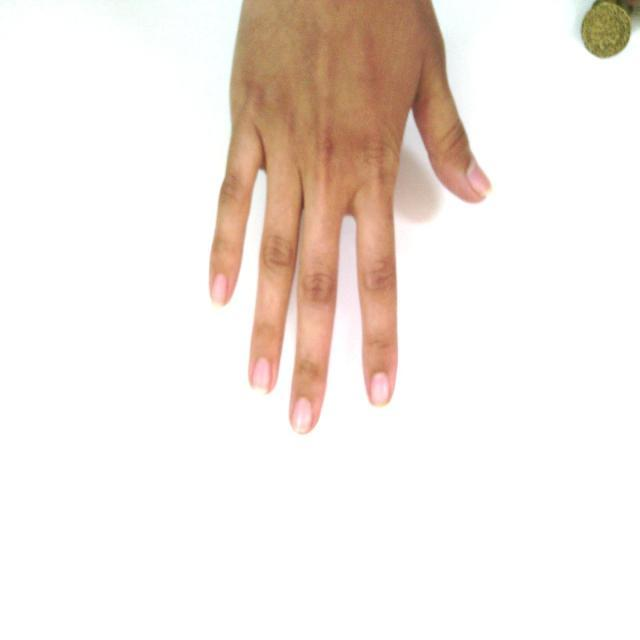Fingernail: (253, 357, 272, 393), (469, 162, 491, 193), (293, 398, 312, 433), (371, 373, 388, 405), (212, 274, 228, 305)
